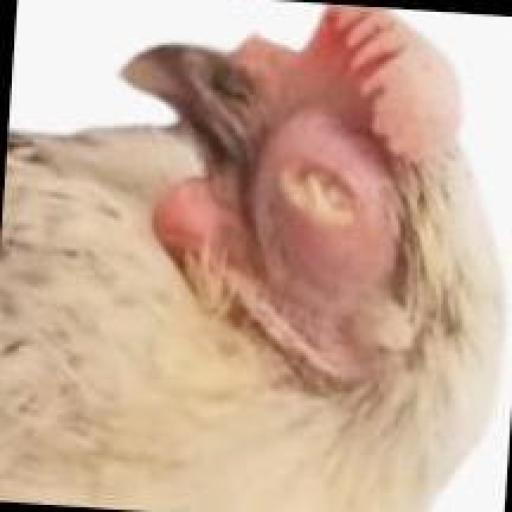disease: (260, 97, 406, 292)
